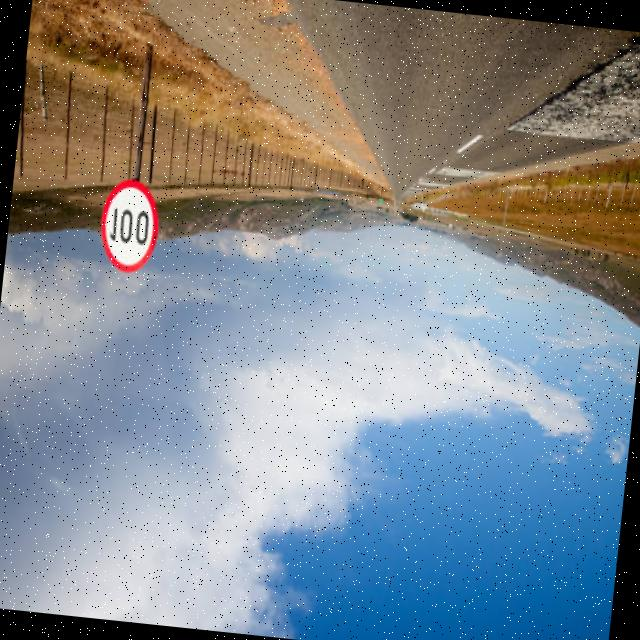speed_limit_100: (96, 168, 170, 280)
